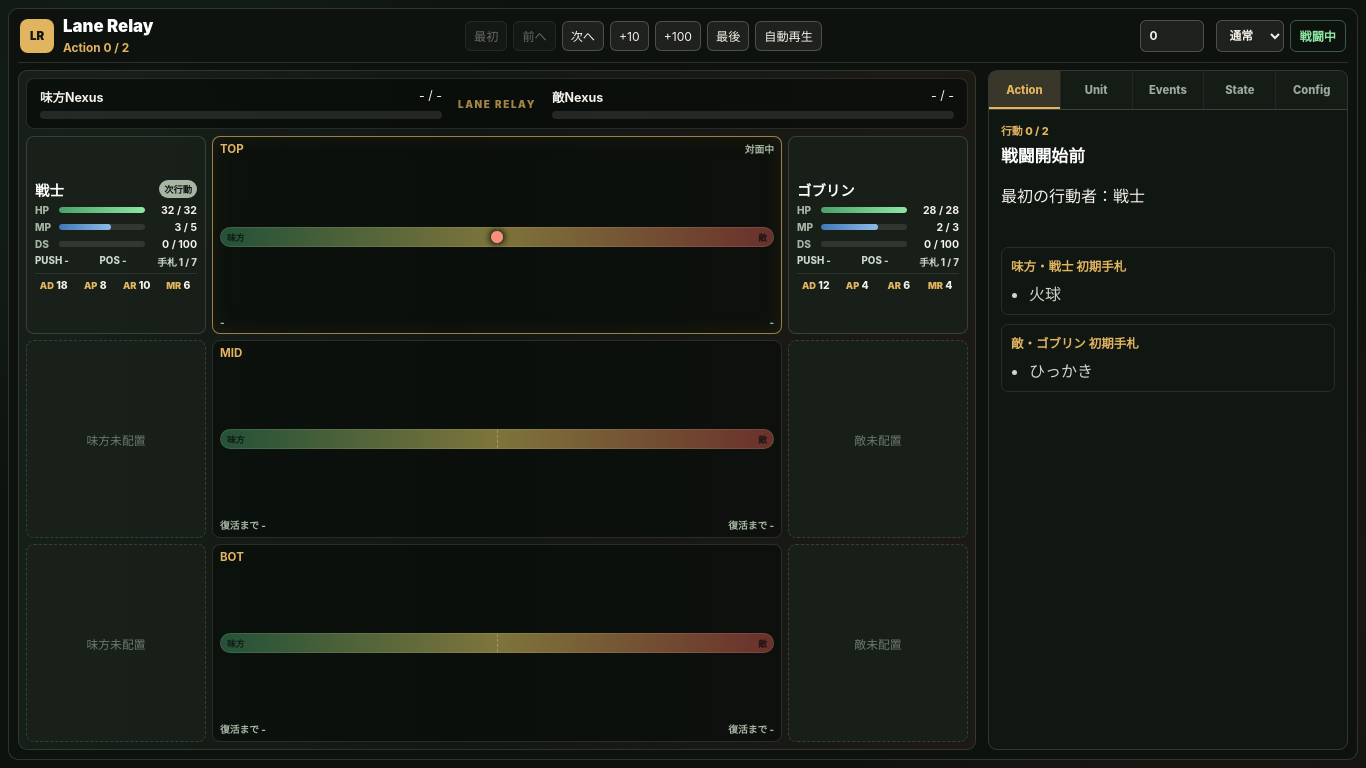
App › speed changes do not change replay result
Select "速い" in the dropdown labelled "再生速度" at coordinates (1250, 36), box [1216, 20, 1284, 52]
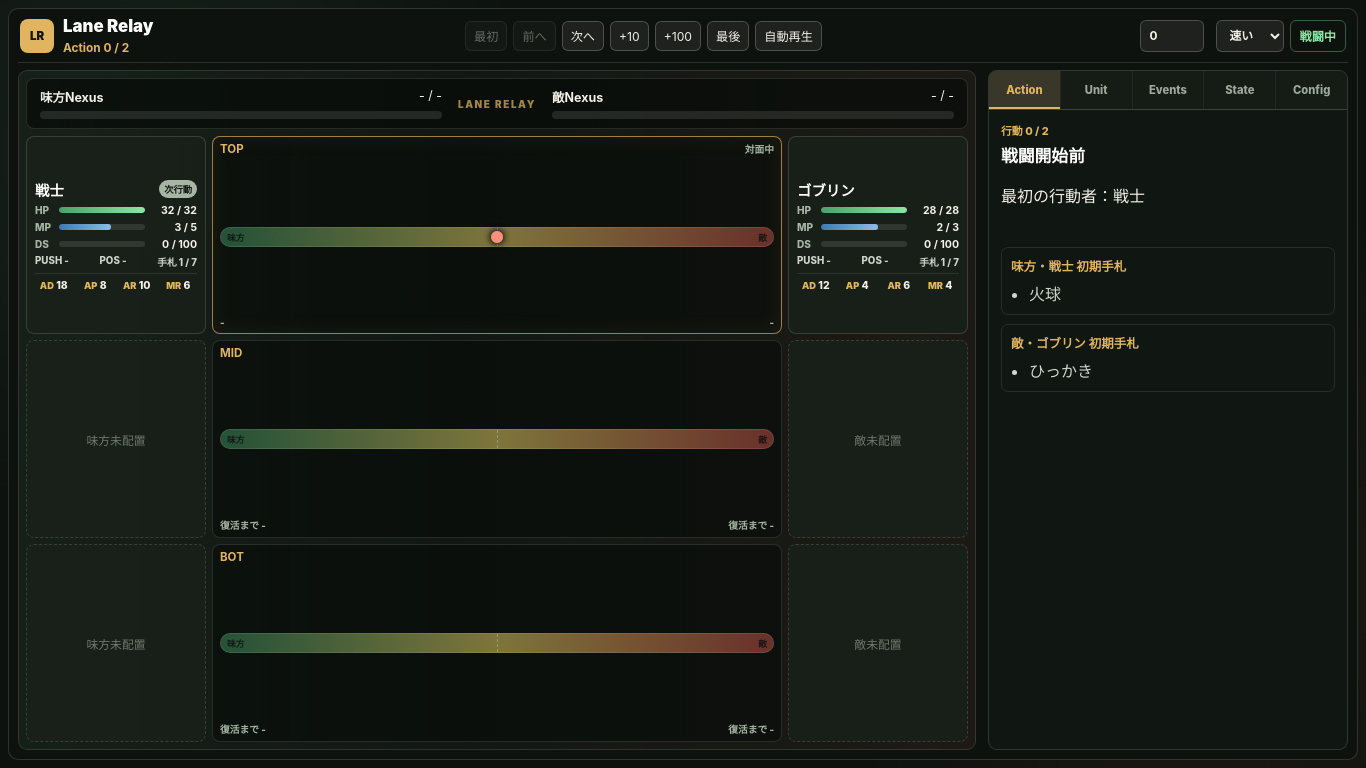
Click the button "最後" at coordinates (728, 36), box [707, 21, 749, 51]
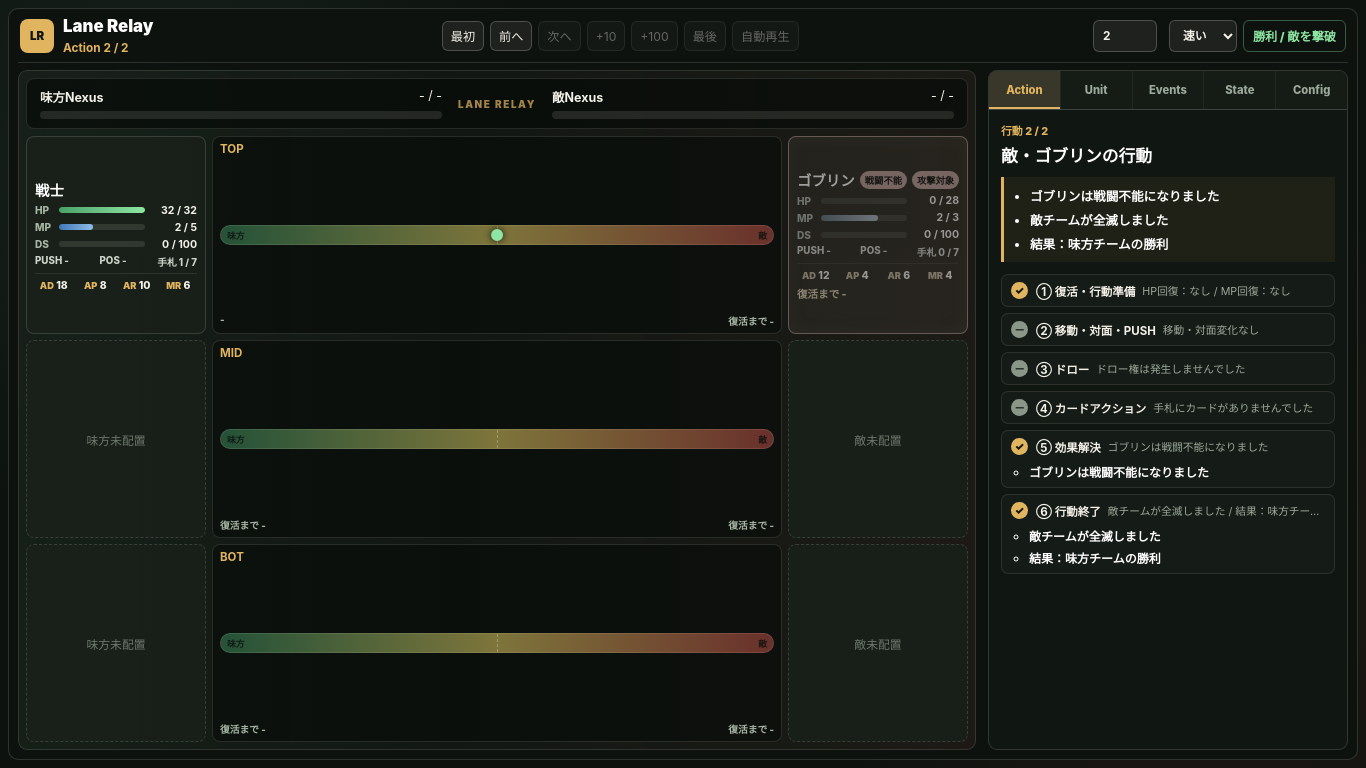
Result: the text with class "result-badge" reads "勝利 / 敵を撃破" at [1253, 29, 1336, 44]
Click the button "最初" at coordinates (463, 36), box [442, 21, 484, 51]
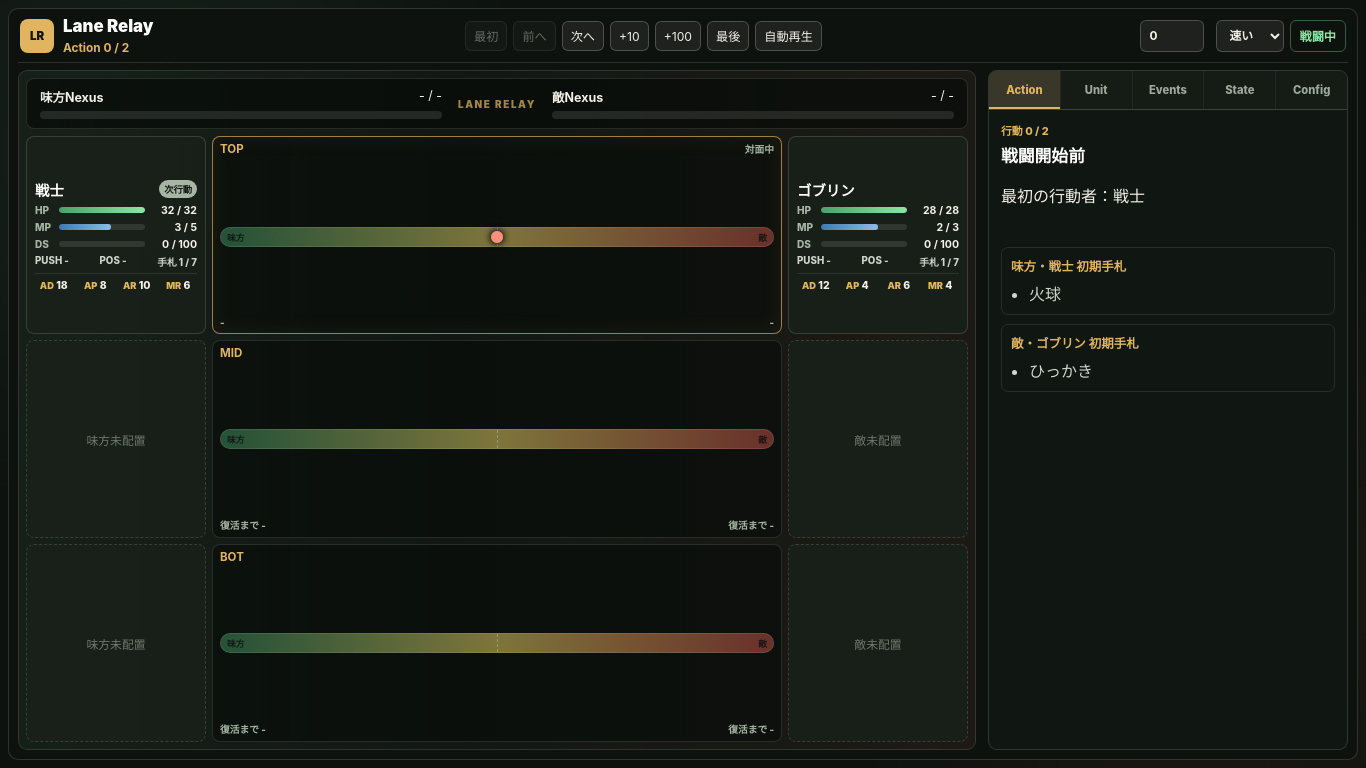
Select "遅い" in the dropdown labelled "再生速度" at coordinates (1250, 36), box [1216, 20, 1284, 52]
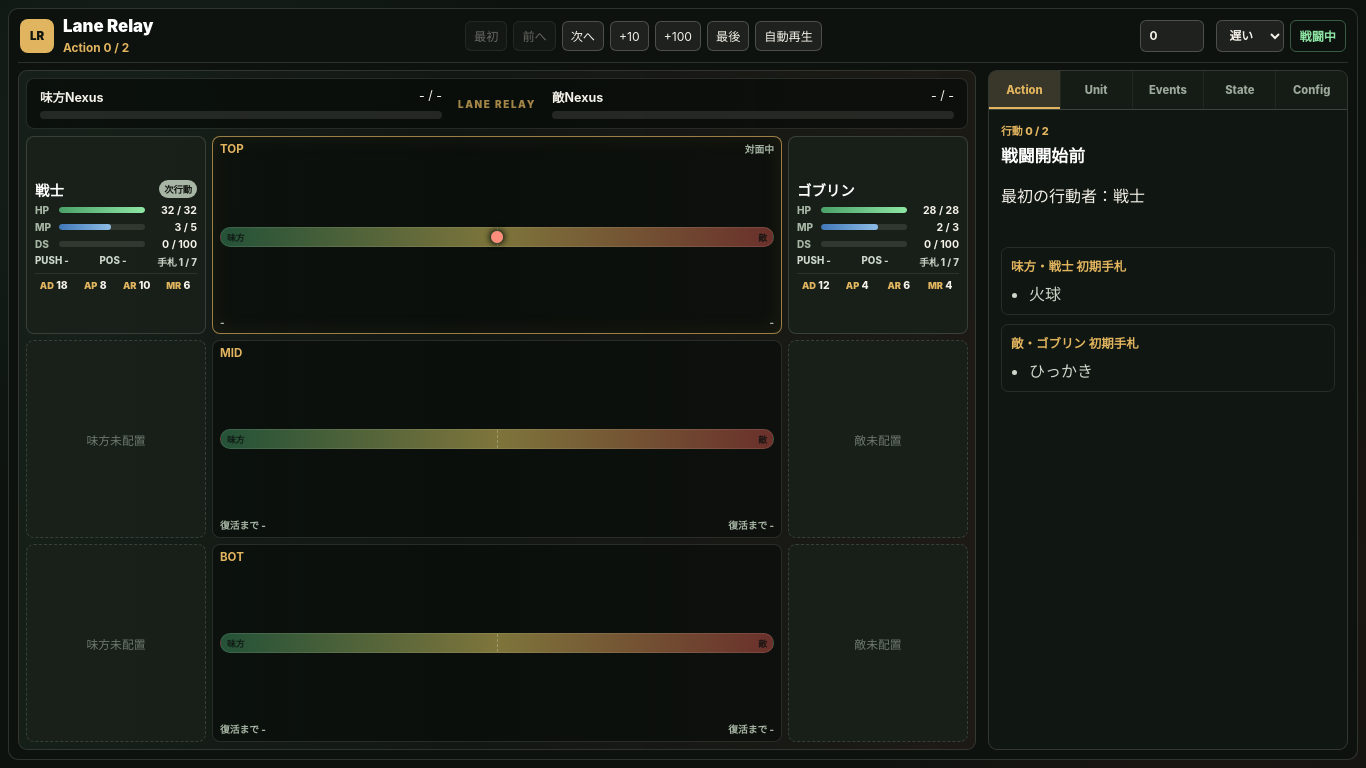
Click the button "最後" at coordinates (728, 36), box [707, 21, 749, 51]
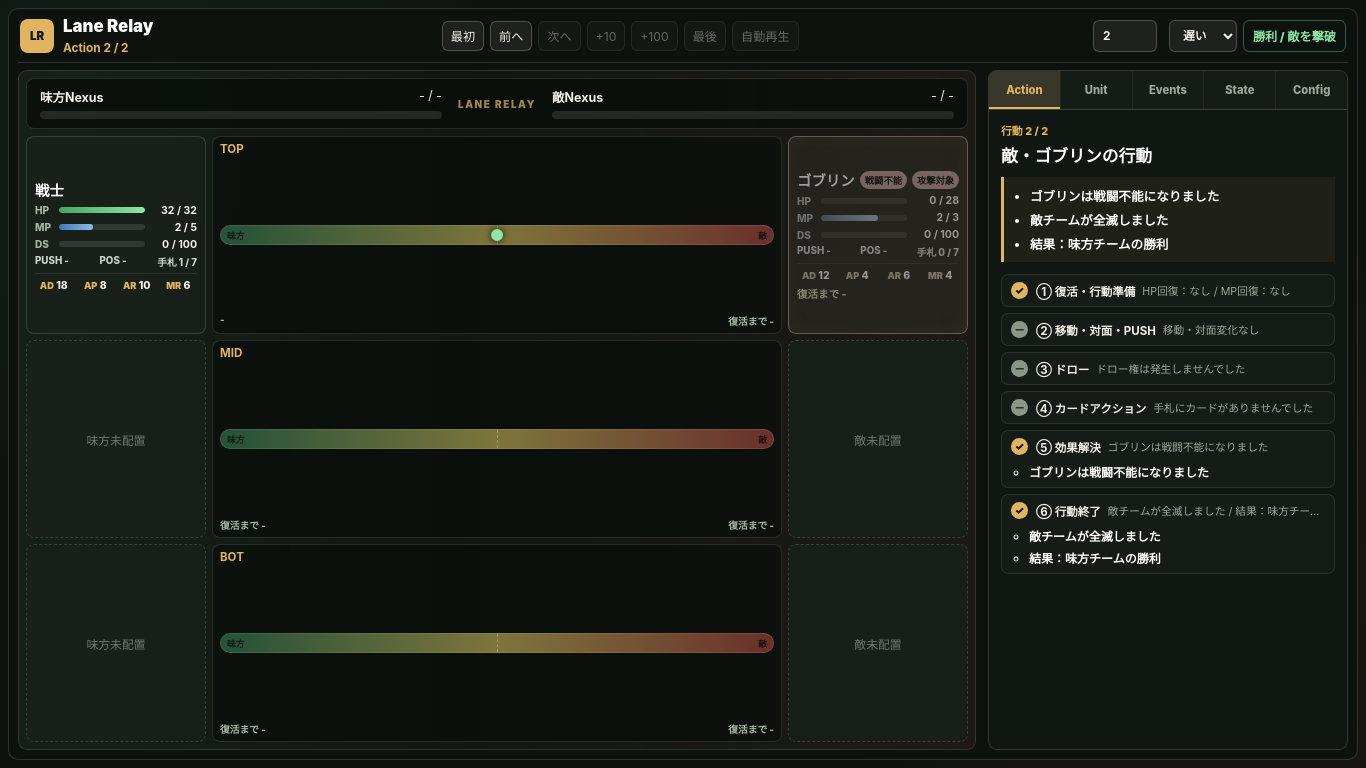
Result: the text with class "result-badge" reads "勝利 / 敵を撃破" at [1253, 29, 1336, 44]
